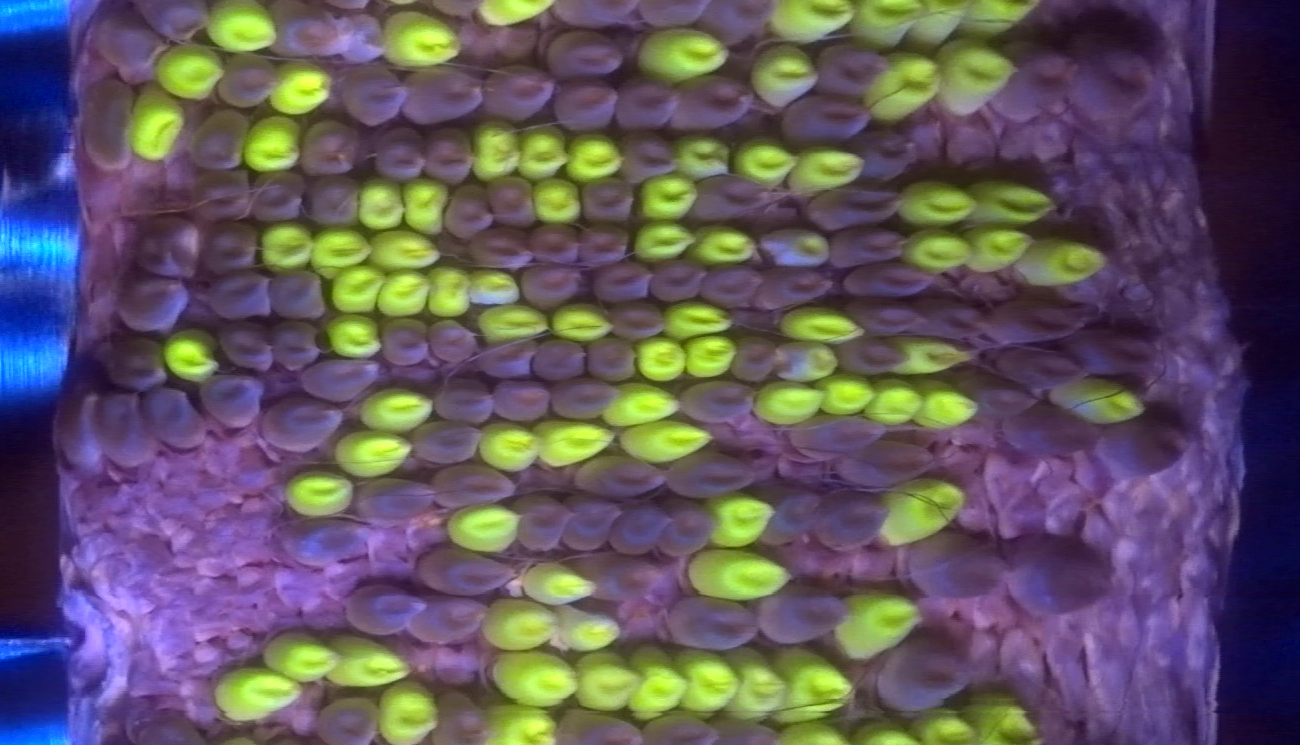fluorescent: (935, 47, 1012, 114), (875, 483, 961, 542), (838, 594, 917, 657), (868, 52, 935, 126), (776, 653, 850, 720), (492, 650, 579, 706), (691, 548, 790, 597), (329, 633, 409, 687), (1060, 375, 1143, 425), (216, 671, 299, 721), (645, 27, 723, 80), (383, 12, 457, 65), (571, 653, 637, 712), (533, 420, 616, 466), (631, 650, 685, 720), (262, 634, 336, 683), (726, 658, 781, 723), (208, 1, 274, 53), (676, 653, 734, 712), (970, 700, 1049, 743), (707, 497, 773, 548), (966, 184, 1051, 223), (129, 90, 179, 156), (158, 45, 220, 98), (378, 687, 440, 740), (338, 432, 406, 478), (488, 599, 557, 644), (605, 378, 677, 421), (771, 1, 848, 40), (620, 424, 708, 458), (900, 181, 971, 223), (918, 386, 979, 433), (754, 49, 811, 99), (962, 227, 1031, 268), (735, 137, 795, 183), (448, 509, 517, 548), (270, 65, 329, 110), (798, 142, 861, 184), (1025, 252, 1108, 283), (246, 112, 295, 164), (477, 422, 538, 463), (551, 609, 616, 647), (470, 122, 515, 176), (526, 564, 595, 599), (358, 392, 431, 425), (369, 236, 441, 269), (568, 133, 621, 177), (971, 1, 1034, 38), (675, 135, 731, 176), (637, 339, 687, 384), (694, 226, 756, 262), (757, 385, 819, 421), (287, 475, 352, 509), (854, 4, 915, 40), (666, 302, 726, 338), (519, 129, 564, 176), (905, 235, 971, 267), (641, 173, 690, 216), (822, 375, 873, 416), (916, 709, 979, 742), (360, 180, 402, 229), (258, 229, 311, 267), (467, 269, 523, 304), (168, 333, 217, 373), (790, 307, 855, 337), (870, 380, 915, 422), (332, 270, 376, 311), (329, 320, 383, 353), (486, 715, 557, 740), (551, 307, 614, 335), (905, 340, 960, 372), (478, 310, 548, 335), (533, 184, 579, 221), (918, 4, 964, 40), (634, 224, 689, 254), (314, 235, 367, 266), (427, 274, 467, 315), (406, 185, 440, 233), (473, 3, 563, 20), (377, 280, 428, 309), (688, 339, 729, 374), (862, 724, 922, 742), (776, 727, 838, 739)
nonfluorescent: (1006, 533, 1111, 618), (1072, 35, 1157, 121), (1106, 414, 1199, 487), (911, 533, 1007, 601), (881, 639, 966, 715), (996, 41, 1073, 119), (418, 541, 517, 597), (667, 77, 761, 135), (79, 75, 129, 184), (402, 66, 484, 131), (1075, 323, 1163, 382), (760, 582, 844, 641), (1004, 402, 1096, 455), (806, 184, 902, 234), (342, 581, 423, 640), (261, 395, 344, 452), (814, 489, 887, 553), (480, 62, 554, 125), (94, 2, 160, 72), (352, 473, 439, 526), (278, 514, 374, 562), (430, 460, 520, 509), (664, 597, 762, 642), (100, 380, 147, 473), (575, 455, 672, 499), (694, 173, 773, 227), (819, 37, 890, 97), (985, 303, 1084, 346), (144, 387, 208, 453), (140, 210, 199, 281), (989, 348, 1086, 391), (839, 260, 940, 301), (954, 367, 1035, 417), (779, 93, 865, 140), (840, 444, 938, 485), (201, 371, 267, 431), (417, 596, 492, 648), (343, 56, 398, 126), (188, 111, 250, 173), (544, 33, 625, 80), (431, 680, 489, 745), (789, 416, 883, 456), (117, 280, 192, 330), (199, 218, 258, 281), (514, 494, 577, 553), (678, 377, 757, 424), (303, 113, 361, 177), (57, 387, 100, 473), (756, 265, 838, 310), (611, 496, 668, 560), (553, 702, 637, 745), (216, 53, 279, 110), (671, 452, 752, 496), (554, 78, 622, 130), (277, 3, 339, 60), (302, 356, 385, 398), (419, 125, 477, 185), (616, 77, 677, 132), (104, 335, 165, 389), (842, 300, 926, 339), (376, 124, 429, 185), (663, 498, 716, 559), (767, 483, 816, 548), (563, 494, 616, 553), (432, 379, 497, 426), (192, 170, 251, 221), (409, 419, 481, 460), (548, 378, 618, 420), (317, 696, 377, 745), (859, 126, 914, 179), (824, 226, 907, 261), (251, 172, 309, 222), (828, 338, 904, 376), (473, 224, 535, 270), (269, 272, 326, 322), (211, 273, 269, 322), (638, 711, 719, 745), (913, 298, 985, 336), (549, 1, 637, 32), (425, 314, 477, 366), (618, 135, 676, 181), (476, 339, 539, 381), (582, 176, 638, 223), (492, 377, 548, 423), (533, 219, 584, 269), (445, 183, 493, 236), (219, 327, 273, 374), (575, 220, 630, 266), (704, 1, 769, 39), (383, 319, 429, 371), (704, 262, 758, 306), (133, 708, 197, 745), (583, 339, 639, 381), (519, 266, 582, 303), (310, 173, 357, 222), (270, 320, 317, 369), (533, 336, 583, 382), (148, 1, 209, 38), (491, 173, 535, 223), (651, 259, 706, 299), (595, 262, 651, 300), (630, 1, 703, 30), (713, 715, 781, 745), (610, 303, 664, 340), (735, 331, 771, 379)
